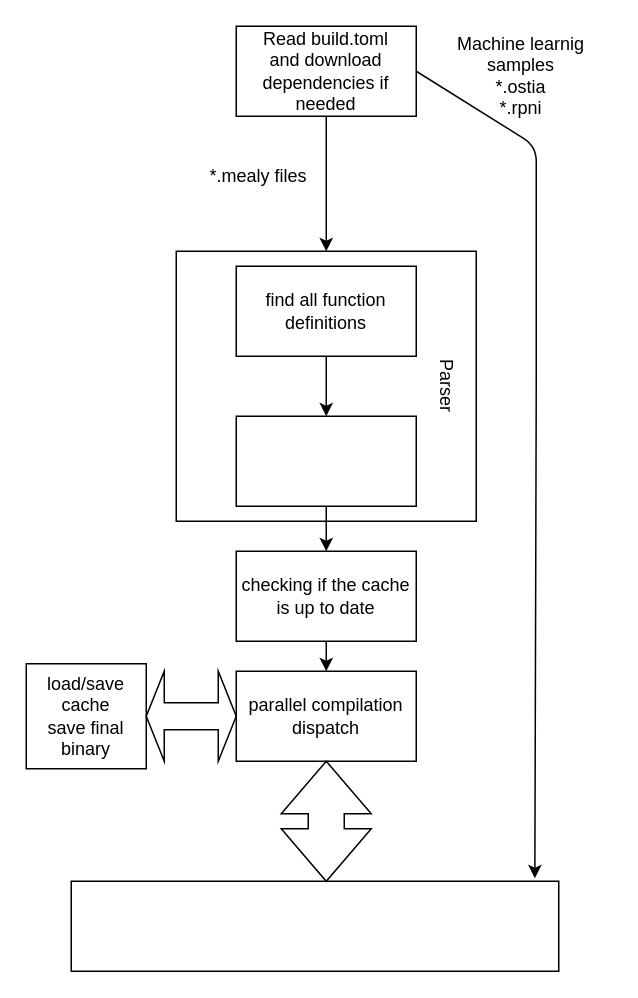
The diagram is 638 pixels wide and 998 high, and some of its shapes have lost their labels. Here are the shapes that lost their labels. From the top down, the box of each, then its label:
(235, 415, 416, 506): Build dependecy tree
(70, 880, 559, 971): Library API
